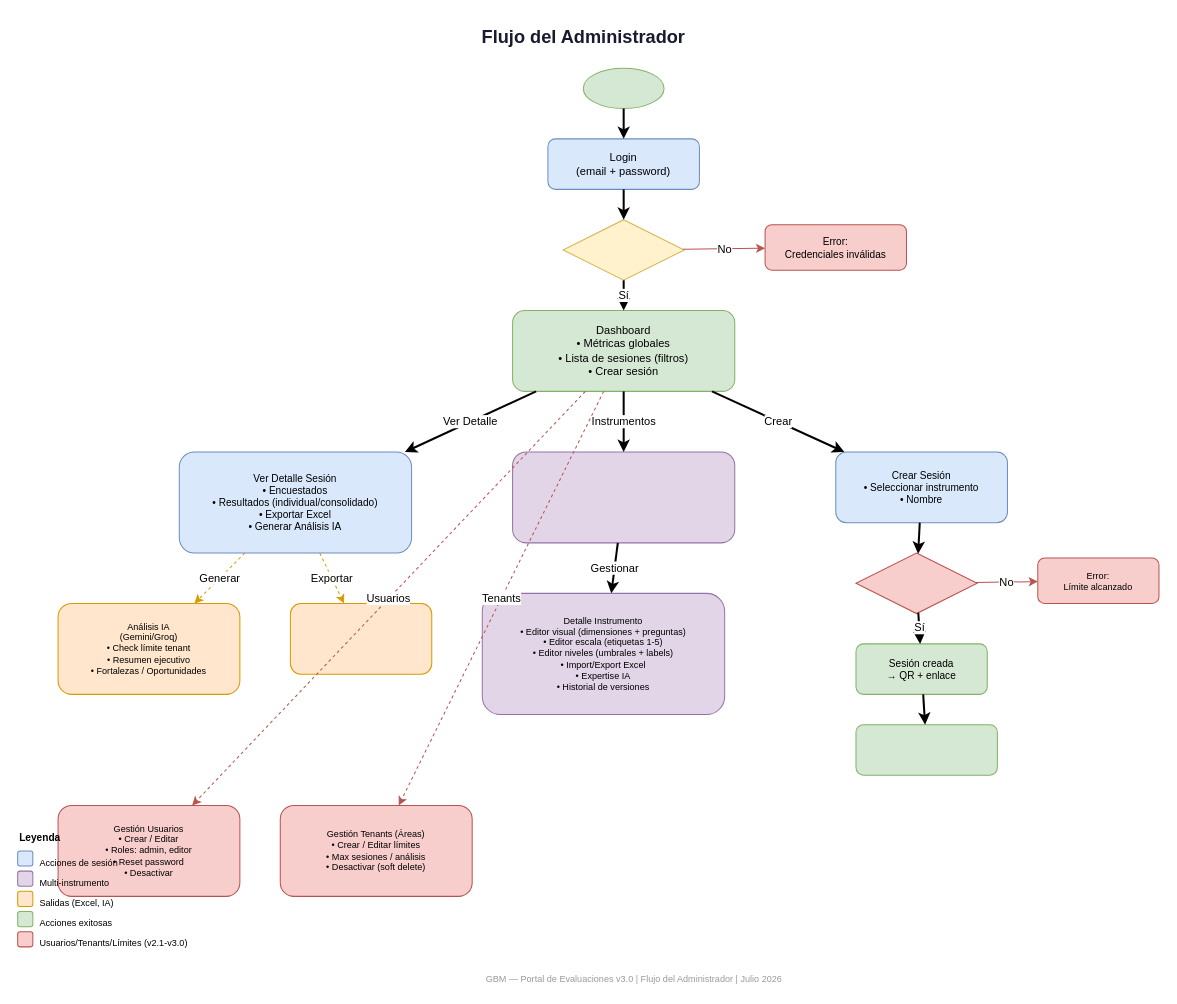
The diagram is 1177 pixels wide and 1004 high, and some of its shapes have lost their labels. The centre of each missing label's shape, as x and y in pixels:
"Compartir QR / Enlace a encuestados" goes at point 926,749.
"Exportar Excel • Hoja Resumen • Hoja Detalle" goes at point 360,638.
"Gestión de Instrumentos • Catálogo • Crear / Duplicar • Activar / Desactivar" goes at point 623,497.
"Inicio" goes at point 623,88.
"¿Credenciales válidas?" goes at point 623,249.
"¿Límite de sesiones ok?" goes at point 916,583.
